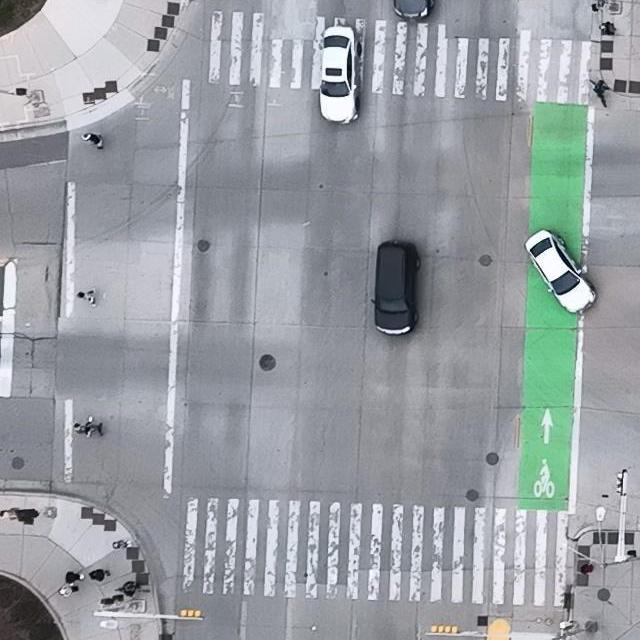car: (524, 227, 598, 314), (370, 239, 421, 335), (317, 25, 362, 124), (392, 0, 436, 21)
